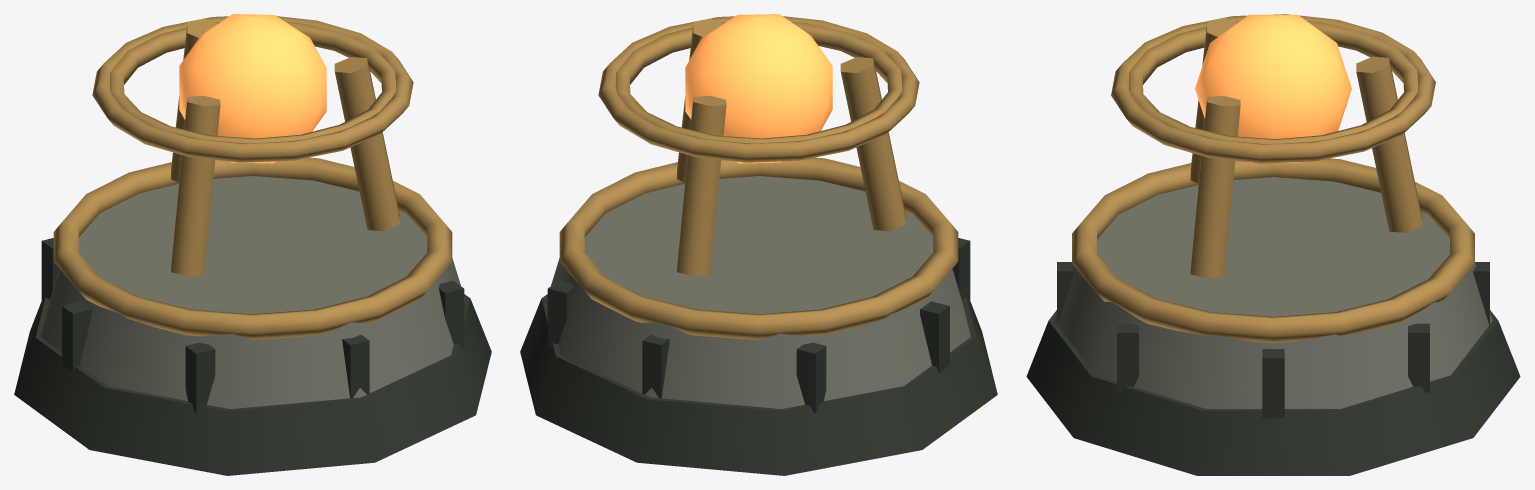
Rendered from tower_meteor_meteorCaller.glb.
The picture shows the model from 3 angles, left to right: view 1: azimuth 30°, elevation 25°; view 2: azimuth 150°, elevation 25°; view 3: azimuth 270°, elevation 25°; orthographic projection.
Visible parts, largest first — view 1: stone_1, foot_0, rim_2, meteor_14, armillary_16, armillary_15, claw_13, claw_12, mortar_6, mortar_7, mortar_5, mortar_4 (+2 smaller); view 2: stone_1, foot_0, rim_2, meteor_14, armillary_16, armillary_15, claw_11, claw_13, mortar_8, mortar_7, mortar_9, mortar_10 (+2 smaller); view 3: stone_1, foot_0, rim_2, meteor_14, armillary_16, armillary_15, claw_12, claw_11, mortar_3, mortar_4, mortar_10, claw_13 (+2 smaller).
Part boxes in pixels (x1,y1,x2,y2): stone_1: (41,176,464,408); foot_0: (14,294,491,475); rim_2: (53,157,452,339); meteor_14: (179,14,326,163); armillary_16: (92,16,413,162); armillary_15: (110,21,395,143); claw_13: (171,95,220,276); claw_12: (334,57,399,231); mortar_6: (185,342,215,412); mortar_7: (62,301,91,372); mortar_5: (342,334,369,398); mortar_4: (439,280,464,348); stone_1: (547,176,970,408); foot_0: (520,294,997,475); rim_2: (559,157,958,339); meteor_14: (685,14,832,163); armillary_16: (598,16,919,162); armillary_15: (616,21,901,143); claw_11: (677,95,726,276); claw_13: (840,57,905,231); mortar_8: (796,342,826,412); mortar_7: (920,301,949,372); mortar_9: (642,334,669,398); mortar_10: (547,280,572,348); stone_1: (1054,177,1492,408); foot_0: (1026,310,1520,475); rim_2: (1072,158,1474,343); meteor_14: (1195,14,1351,162); armillary_16: (1111,14,1435,163); armillary_15: (1129,21,1417,143); claw_12: (1190,96,1240,278); claw_11: (1356,56,1422,232); mortar_3: (1262,349,1284,418); mortar_4: (1117,323,1138,392); mortar_10: (1408,323,1429,392); claw_13: (1190,17,1236,183).
Bounding box in the file's own units: 0.5326 × 0.449 × 0.56.
